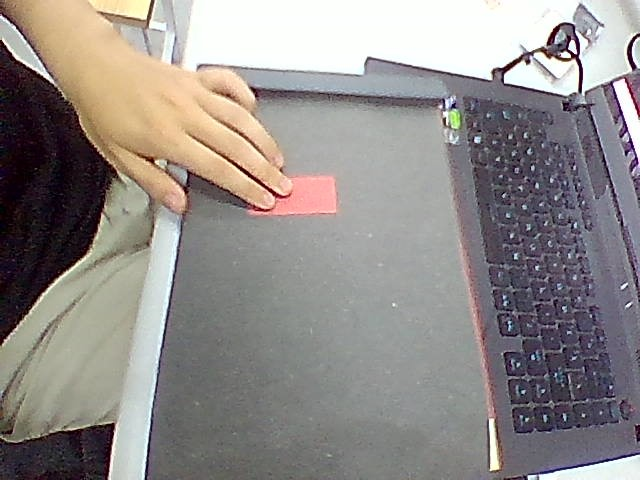card: (249, 177, 335, 213)
